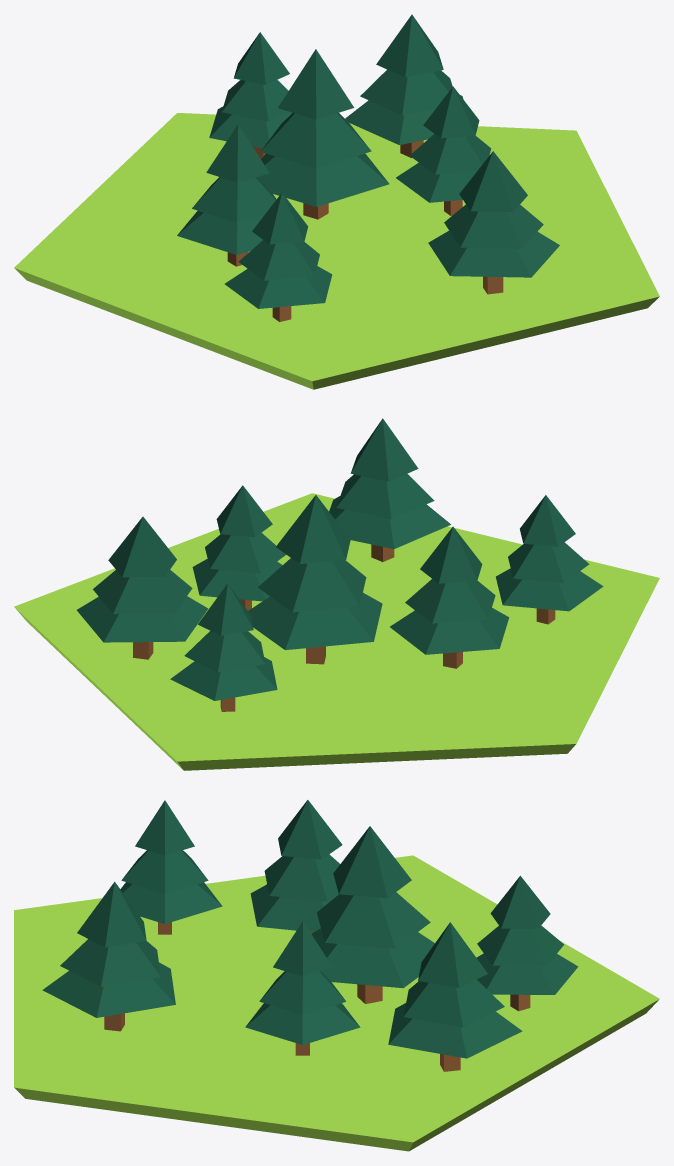
The model's file is TuileForestOine.fbx.
3 views of the same model, one above another, from view 1: azimuth 30°, elevation 25°; view 2: azimuth 150°, elevation 25°; view 3: azimuth 270°, elevation 25° (orthographic). The views are drawn at different scales.
Parts seen in each view (by area): view 1: origine.003; view 2: origine.003; view 3: origine.003.
Boxes of the visible parts, <box> form: origine.003: <box>14,14,659,389</box>; origine.003: <box>14,418,659,770</box>; origine.003: <box>14,800,659,1151</box>.
Size of the model in its own units: 111 by 33.77 by 105.
